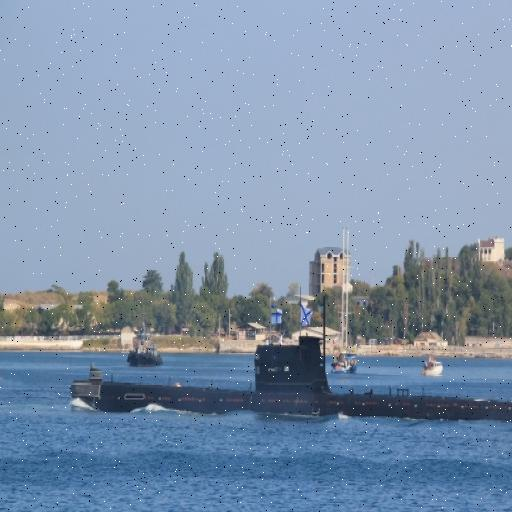submarine: (72, 341, 512, 425)
